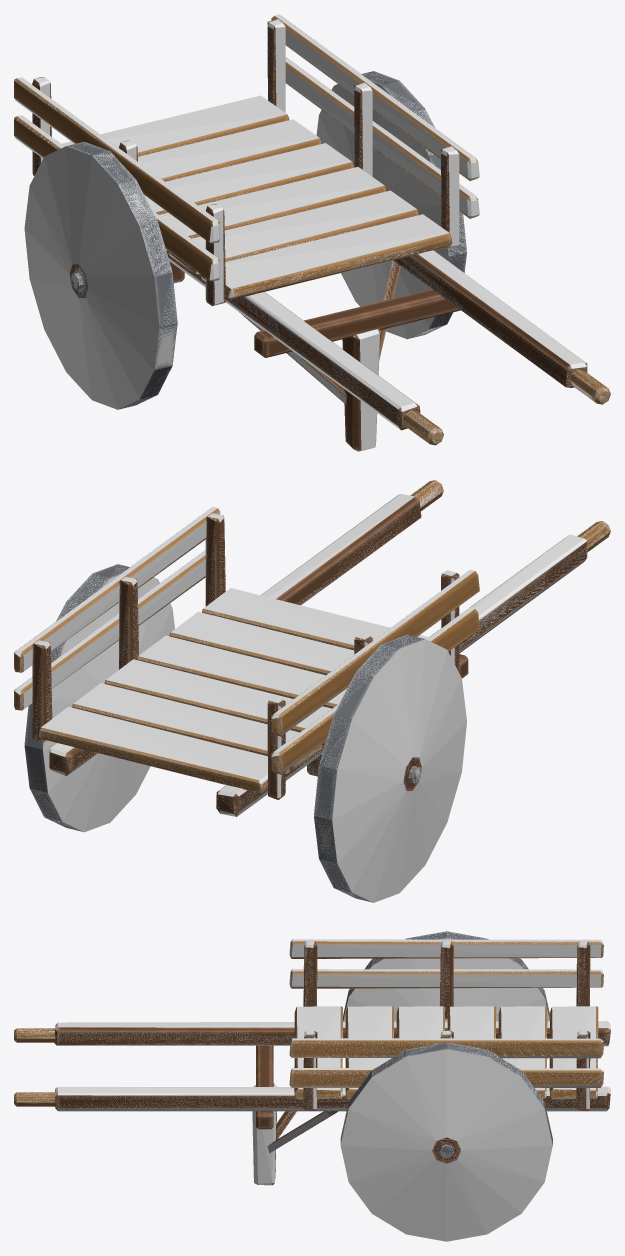
The model's file is hand_cart.glb.
3 renders of one model, top to bottom at view 1: azimuth 30°, elevation 25°; view 2: azimuth 150°, elevation 25°; view 3: azimuth 270°, elevation 25°, orthographic. The views are drawn at different scales.
Visible parts, largest first — view 1: COL_hand_cart_01, COL_hand_cart_00, COL_hand_cart_14, COL_hand_cart_13, COL_hand_cart_06, wheel_left, COL_hand_cart_11, COL_hand_cart_12, COL_hand_cart_10, bearer, beam_right, COL_hand_cart_09 (+29 smaller); view 2: COL_hand_cart_01, COL_hand_cart_00, COL_hand_cart_09, wheel_left, COL_hand_cart_10, COL_hand_cart_12, COL_hand_cart_11, COL_hand_cart_13, COL_hand_cart_14, COL_hand_cart_06, beam_right, rail_0_left (+20 smaller); view 3: COL_hand_cart_00, COL_hand_cart_01, beam_left, COL_hand_cart_05, COL_hand_cart_23, COL_hand_cart_25, rail_0_right, beam_right, COL_hand_cart_06, rail_1_right, COL_hand_cart_22, wheel_right (+22 smaller).
Boxes of the visible parts, x1=… form: COL_hand_cart_01: x1=24, y1=142, x2=177, y2=409; COL_hand_cart_00: x1=316, y1=73, x2=466, y2=338; COL_hand_cart_14: x1=201, y1=214, x2=451, y2=297; COL_hand_cart_13: x1=168, y1=190, x2=416, y2=275; COL_hand_cart_06: x1=167, y1=253, x2=418, y2=429; wheel_left: x1=67, y1=141, x2=177, y2=409; COL_hand_cart_11: x1=144, y1=143, x2=353, y2=213; COL_hand_cart_12: x1=159, y1=167, x2=385, y2=251; COL_hand_cart_10: x1=138, y1=119, x2=320, y2=181; bearer: x1=254, y1=289, x2=460, y2=357; beam_right: x1=393, y1=254, x2=587, y2=387; COL_hand_cart_09: x1=61, y1=95, x2=286, y2=155; COL_hand_cart_01: x1=314, y1=635, x2=466, y2=902; COL_hand_cart_00: x1=25, y1=565, x2=174, y2=832; COL_hand_cart_09: x1=38, y1=706, x2=289, y2=793; wheel_left: x1=314, y1=634, x2=424, y2=902; COL_hand_cart_10: x1=72, y1=683, x2=320, y2=769; COL_hand_cart_12: x1=137, y1=635, x2=347, y2=707; COL_hand_cart_11: x1=104, y1=659, x2=331, y2=731; COL_hand_cart_13: x1=169, y1=611, x2=354, y2=674; COL_hand_cart_14: x1=202, y1=588, x2=428, y2=648; COL_hand_cart_06: x1=216, y1=534, x2=587, y2=816; beam_right: x1=49, y1=496, x2=421, y2=775; rail_0_left: x1=271, y1=571, x2=479, y2=736; COL_hand_cart_00: x1=340, y1=1043, x2=552, y2=1241; COL_hand_cart_01: x1=343, y1=931, x2=549, y2=1059; beam_left: x1=54, y1=1027, x2=610, y2=1045; COL_hand_cart_05: x1=55, y1=1086, x2=610, y2=1111; COL_hand_cart_23: x1=289, y1=939, x2=603, y2=958; COL_hand_cart_25: x1=289, y1=969, x2=603, y2=988; rail_0_right: x1=290, y1=1040, x2=603, y2=1057; beam_right: x1=55, y1=1089, x2=610, y2=1110; COL_hand_cart_06: x1=55, y1=1021, x2=610, y2=1046; rail_1_right: x1=290, y1=1070, x2=603, y2=1087; COL_hand_cart_22: x1=289, y1=1038, x2=603, y2=1058; wheel_right: x1=340, y1=1042, x2=552, y2=1163.
Size of the model in its own units: 1.23 by 0.8521 by 2.36.
Materials: 3 (3 with a texture image).
